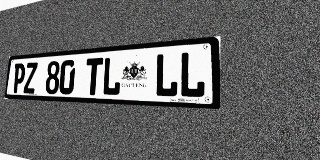0: (59, 59, 76, 95)
8: (45, 60, 61, 94)
L: (179, 50, 206, 98), (154, 52, 179, 97), (102, 56, 122, 96)
P: (12, 63, 26, 93)
T: (84, 58, 103, 95)
Z: (23, 62, 38, 93)
